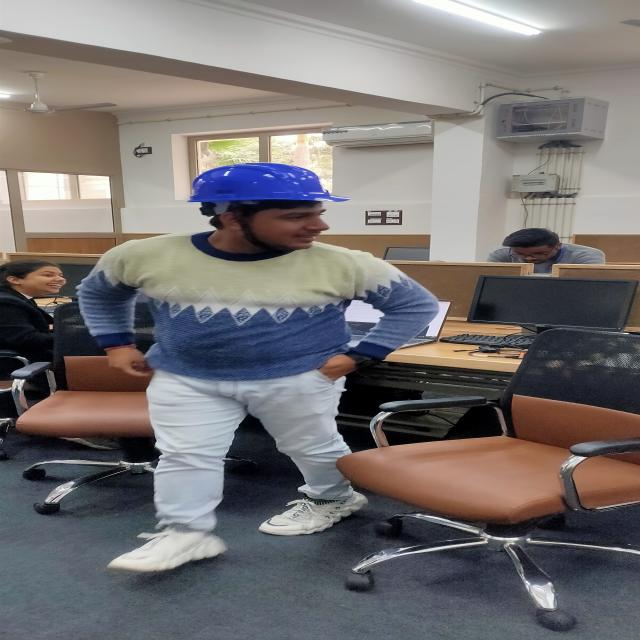no jacket: (75, 164, 446, 575)
unsafe: (0, 260, 70, 368), (488, 224, 602, 270)
